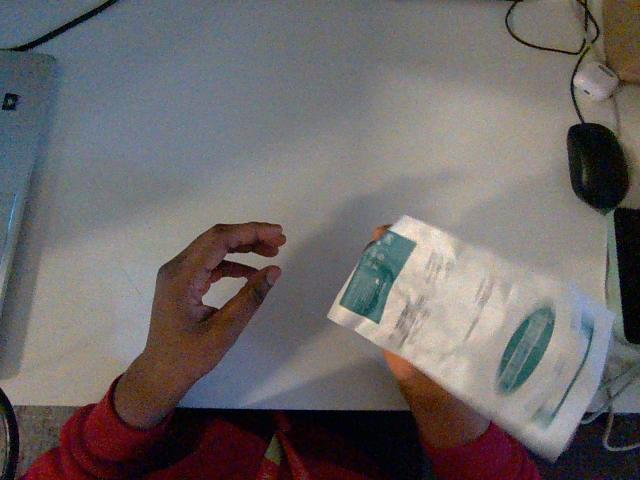gallipot: (328, 216, 612, 459)
